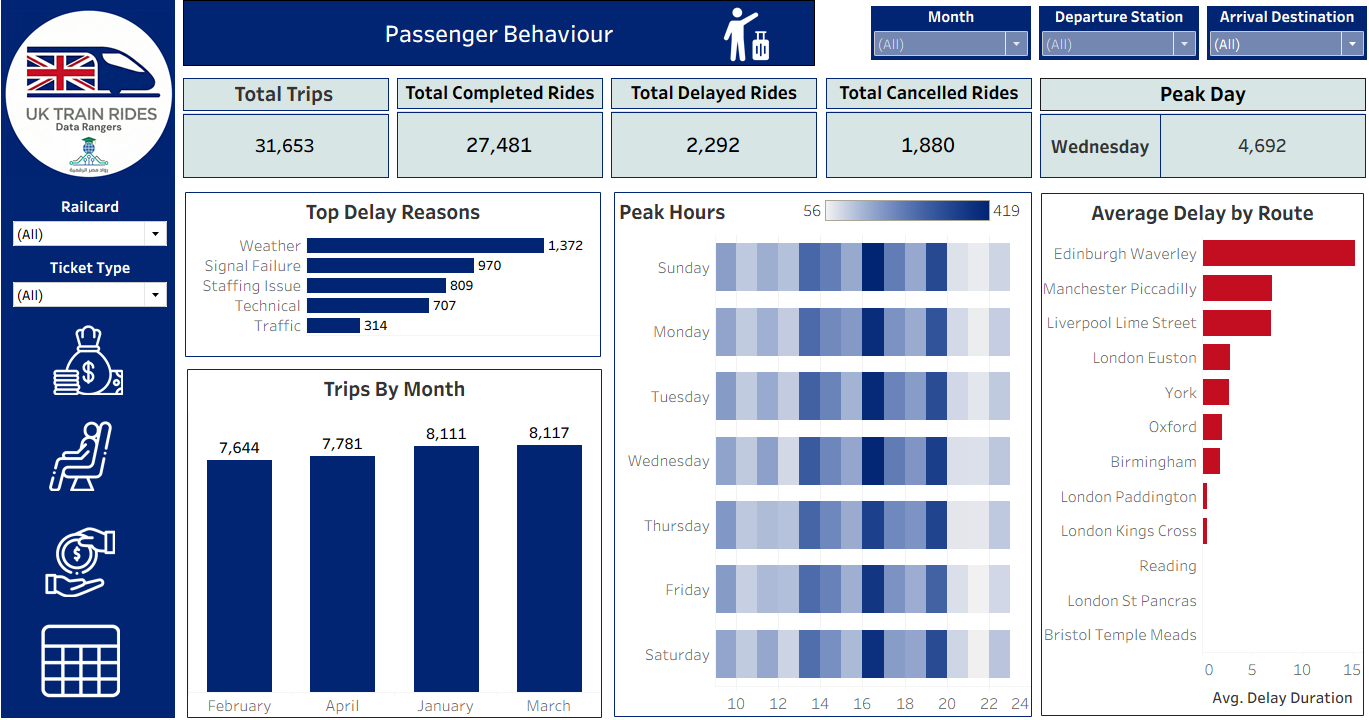

The dashboard page shown, as its layout file describes it:
{"tool":"tableau","page":{"name":"page 2(Passenger Behaviour)","canvas":[1380,720],"ordinal":2},"visuals":[{"type":"blank","box":[2,0,174,719]},{"type":"text","box":[184,1,632,66]},{"type":"image","param":"Image/Data Rangers.png","box":[5,3,169,184]},{"type":"filter","title":"Average Delay by Route","param":"[federated.1v9mgo00v5v99i13xadkg0jli41o].[none:Month:nk]","box":[868,3,168,62]},{"type":"filter","title":"Peak Hours","param":"[federated.1v9mgo00v5v99i13xadkg0jli41o].[none:Departure Station:nk]","box":[1036,3,168,62]},{"type":"filter","title":"Trips By Month","param":"[federated.1v9mgo00v5v99i13xadkg0jli41o].[none:Arrival Destination:nk]","box":[1204,3,168,62]},{"type":"image","param":"Image/output-onlinepngtools(3).png","box":[702,5,91,60]},{"type":"worksheet","title":"Total Trips ","mark":"Automatic","box":[180,75,214.2,108]},{"type":"worksheet","title":"Total Completed Rides","mark":"Automatic","box":[394.2,75,214.2,108]},{"type":"worksheet","title":"Total Delayed Rides","mark":"Automatic","box":[608.4,75,214.2,108]},{"type":"worksheet","title":"Total Cancelled Rides","mark":"Automatic","box":[822.6,75,214.2,108]},{"type":"worksheet","title":"Peak Day","mark":"Automatic","rows":["Day of Week"],"box":[1036.8,75,334.2,108]},{"type":"worksheet","title":"Top Delay Reasons","mark":"Automatic","rows":["Reason for Delay"],"cols":["Reason for Delay"],"box":[186,193,416,165]},{"type":"worksheet","title":"Peak Hours","mark":"Bar","rows":["Day of Week"],"cols":["Calculation_2369737841389154310"],"box":[615,193,418,525]},{"type":"worksheet","title":"Average Delay by Route","mark":"Automatic","rows":["Departure Station"],"cols":["Delay Duration (min)"],"box":[1042,194,323,523]},{"type":"filter","title":"Top Delay Reasons","param":"[federated.1v9mgo00v5v99i13xadkg0jli41o].[none:Railcard:nk]","box":[11,197,160,57]},{"type":"legend","title":"Peak Hours","param":"[federated.1v9mgo00v5v99i13xadkg0jli41o].[cnt:Transaction ID:qk]","box":[800,197,226,34]},{"type":"filter","title":"Top Delay Reasons","param":"[federated.1v9mgo00v5v99i13xadkg0jli41o].[none:Ticket Type:nk]","box":[11,258,160,57]},{"type":"dashboard-object","box":[41,326,97,70]},{"type":"worksheet","title":"Trips By Month","mark":"Automatic","rows":["Transaction ID"],"cols":["Month"],"box":[188,370,415,349]},{"type":"dashboard-object","box":[33,422,97,70]},{"type":"dashboard-object","box":[33,528,97,70]},{"type":"dashboard-object","box":[33,622,97,79]}]}

Visuals, with their boxes in screenshot pixels (x1, y1, x2, y2), scaled from the page's 1380x720 canvas onto the 1369x720 screenshot:
blank: select_region(2, 0, 175, 719)
text: select_region(183, 1, 809, 67)
image: select_region(5, 3, 173, 187)
"Average Delay by Route" filter: select_region(861, 3, 1028, 65)
"Peak Hours" filter: select_region(1028, 3, 1194, 65)
"Trips By Month" filter: select_region(1194, 3, 1361, 65)
image: select_region(696, 5, 787, 65)
"Total Trips " worksheet: select_region(179, 75, 391, 183)
"Total Completed Rides" worksheet: select_region(391, 75, 604, 183)
"Total Delayed Rides" worksheet: select_region(604, 75, 816, 183)
"Total Cancelled Rides" worksheet: select_region(816, 75, 1029, 183)
"Peak Day" worksheet: select_region(1029, 75, 1360, 183)
"Top Delay Reasons" worksheet: select_region(185, 193, 597, 358)
"Peak Hours" worksheet (Bar marks): select_region(610, 193, 1025, 718)
"Average Delay by Route" worksheet: select_region(1034, 194, 1354, 717)
"Top Delay Reasons" filter: select_region(11, 197, 170, 254)
"Peak Hours" legend: select_region(794, 197, 1018, 231)
"Top Delay Reasons" filter: select_region(11, 258, 170, 315)
dashboard-object: select_region(41, 326, 137, 396)
"Trips By Month" worksheet: select_region(187, 370, 598, 719)
dashboard-object: select_region(33, 422, 129, 492)
dashboard-object: select_region(33, 528, 129, 598)
dashboard-object: select_region(33, 622, 129, 701)
